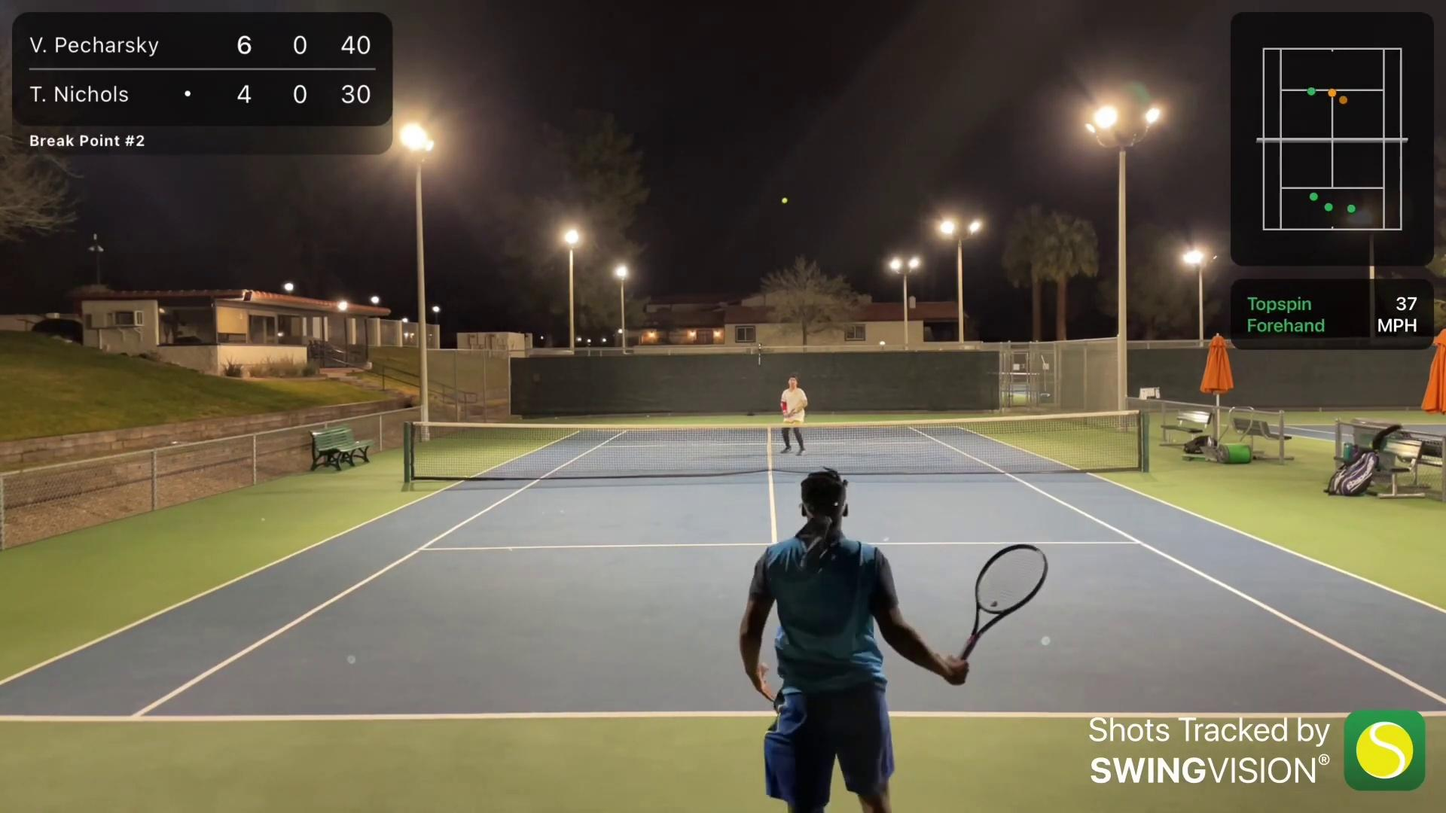ball: (779, 198, 788, 204)
